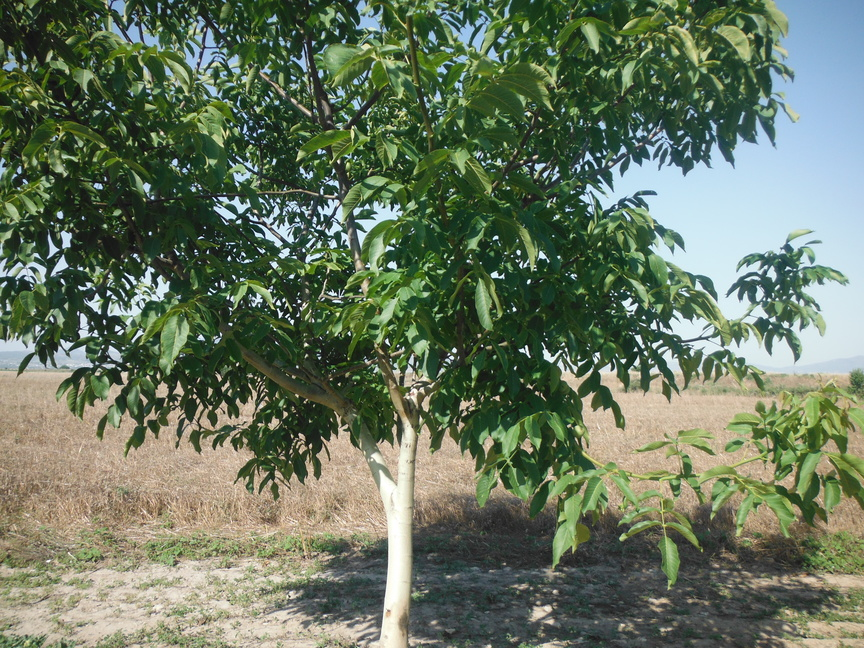walnut: (28, 98, 49, 120), (19, 80, 38, 103), (180, 138, 197, 158), (162, 213, 179, 231), (34, 159, 51, 177), (571, 422, 588, 440), (10, 98, 27, 115), (311, 154, 324, 171), (556, 376, 568, 392), (560, 385, 573, 399), (342, 159, 354, 173), (343, 169, 355, 181), (484, 150, 493, 162)
